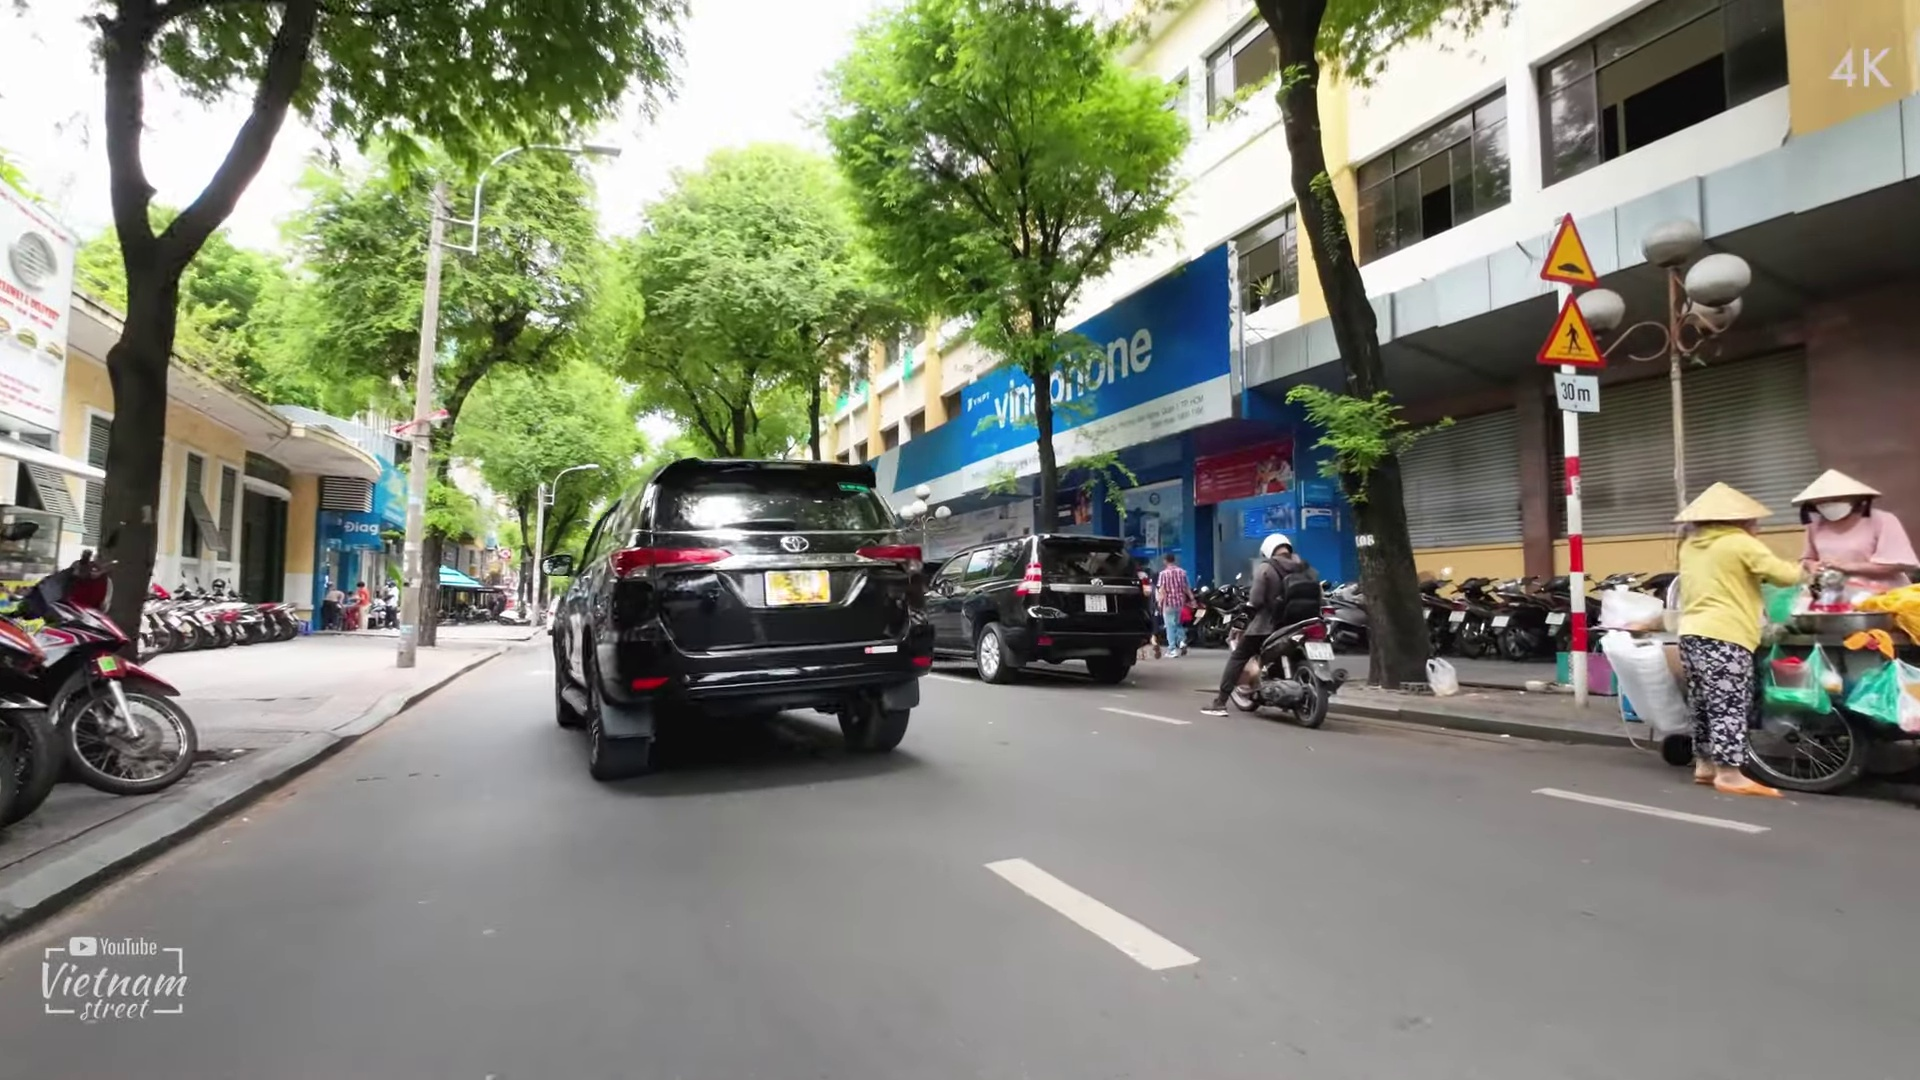can_than_nguoi_qua_duong: (1531, 291, 1613, 371)
